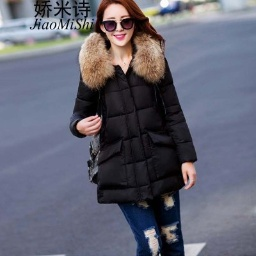face: (90, 1, 154, 44)
